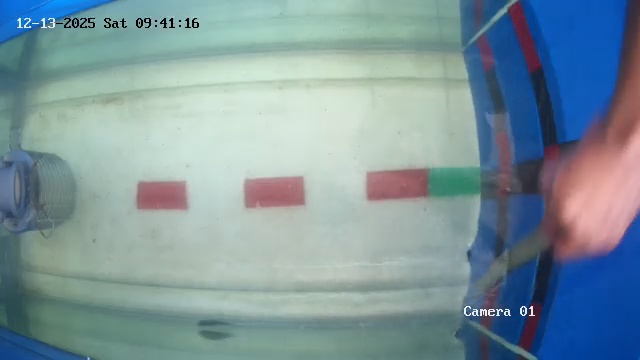fish: (196, 316, 240, 331)
